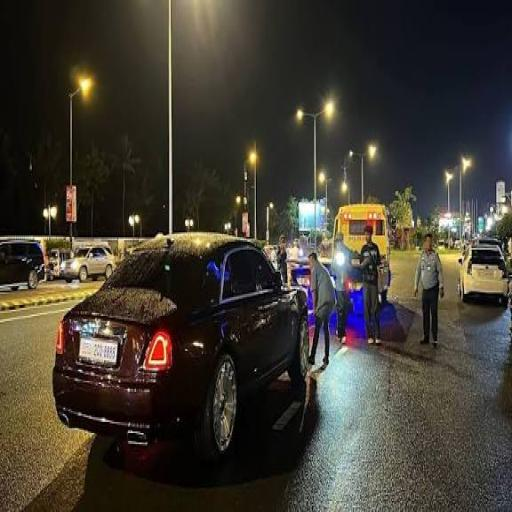Plate Number: (79, 335, 118, 367)
